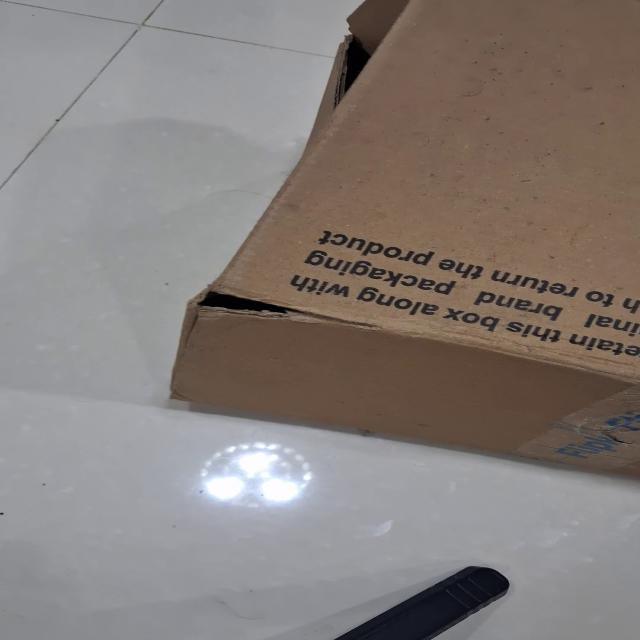paper: (166, 0, 639, 478)
